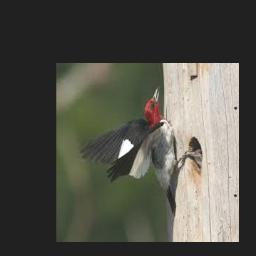Woodpecker: (81, 87, 201, 215)
